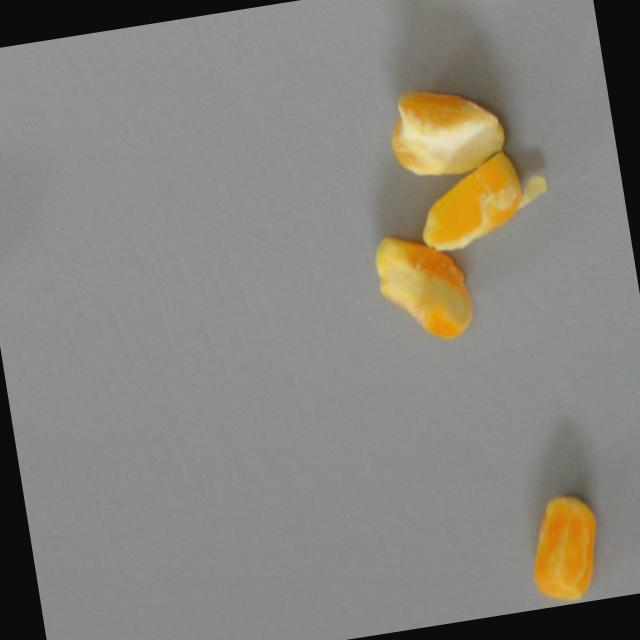pelicula: (410, 143, 556, 257), (368, 220, 484, 349), (380, 77, 511, 183), (520, 486, 611, 607)
